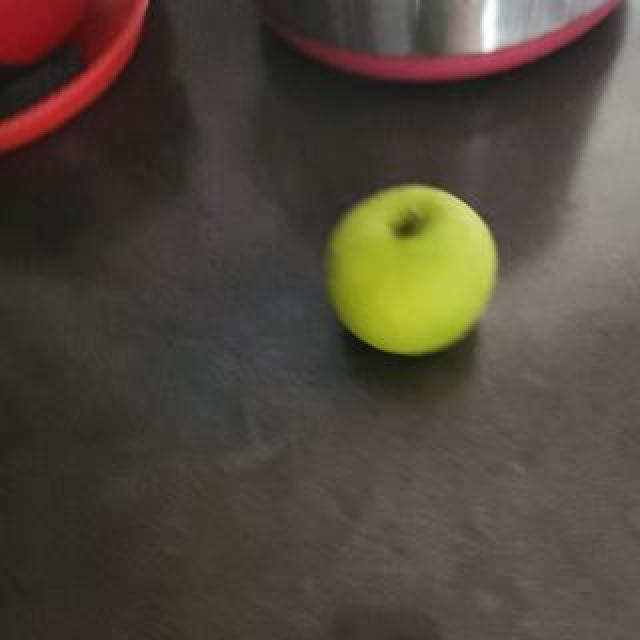Fresh Apple: (318, 185, 502, 367)
